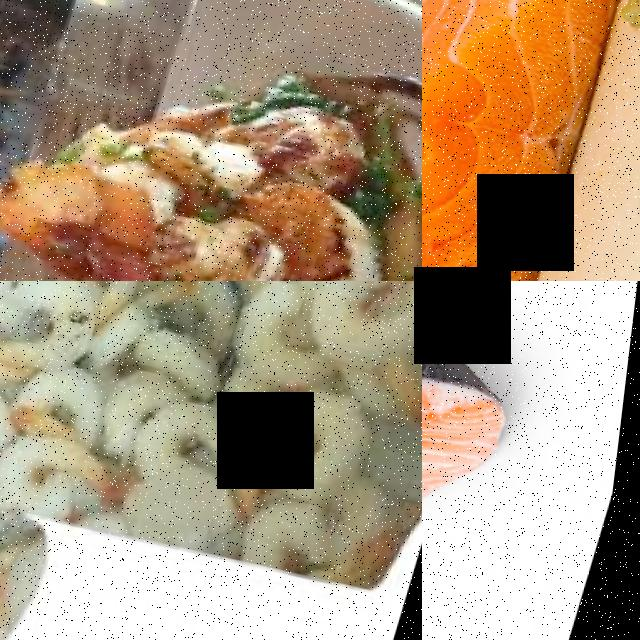salmon: (422, 0, 640, 281), (422, 281, 548, 640)
shrimp: (0, 417, 144, 538), (263, 374, 390, 503), (138, 392, 279, 480), (301, 281, 422, 375), (3, 281, 111, 372), (0, 369, 24, 492)
